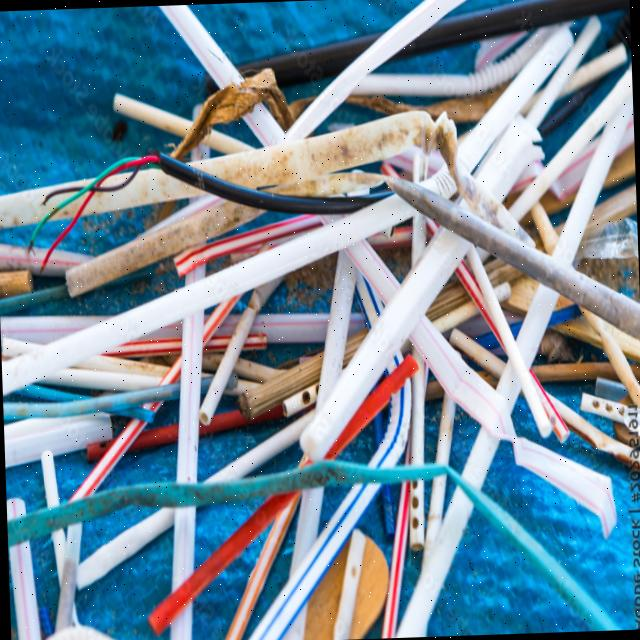plastic: (218, 0, 632, 113)
